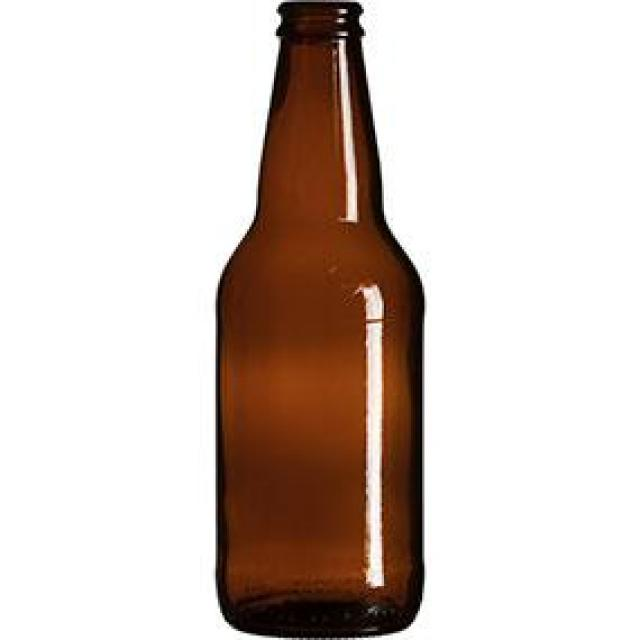non-organic waste: (213, 0, 429, 640)
